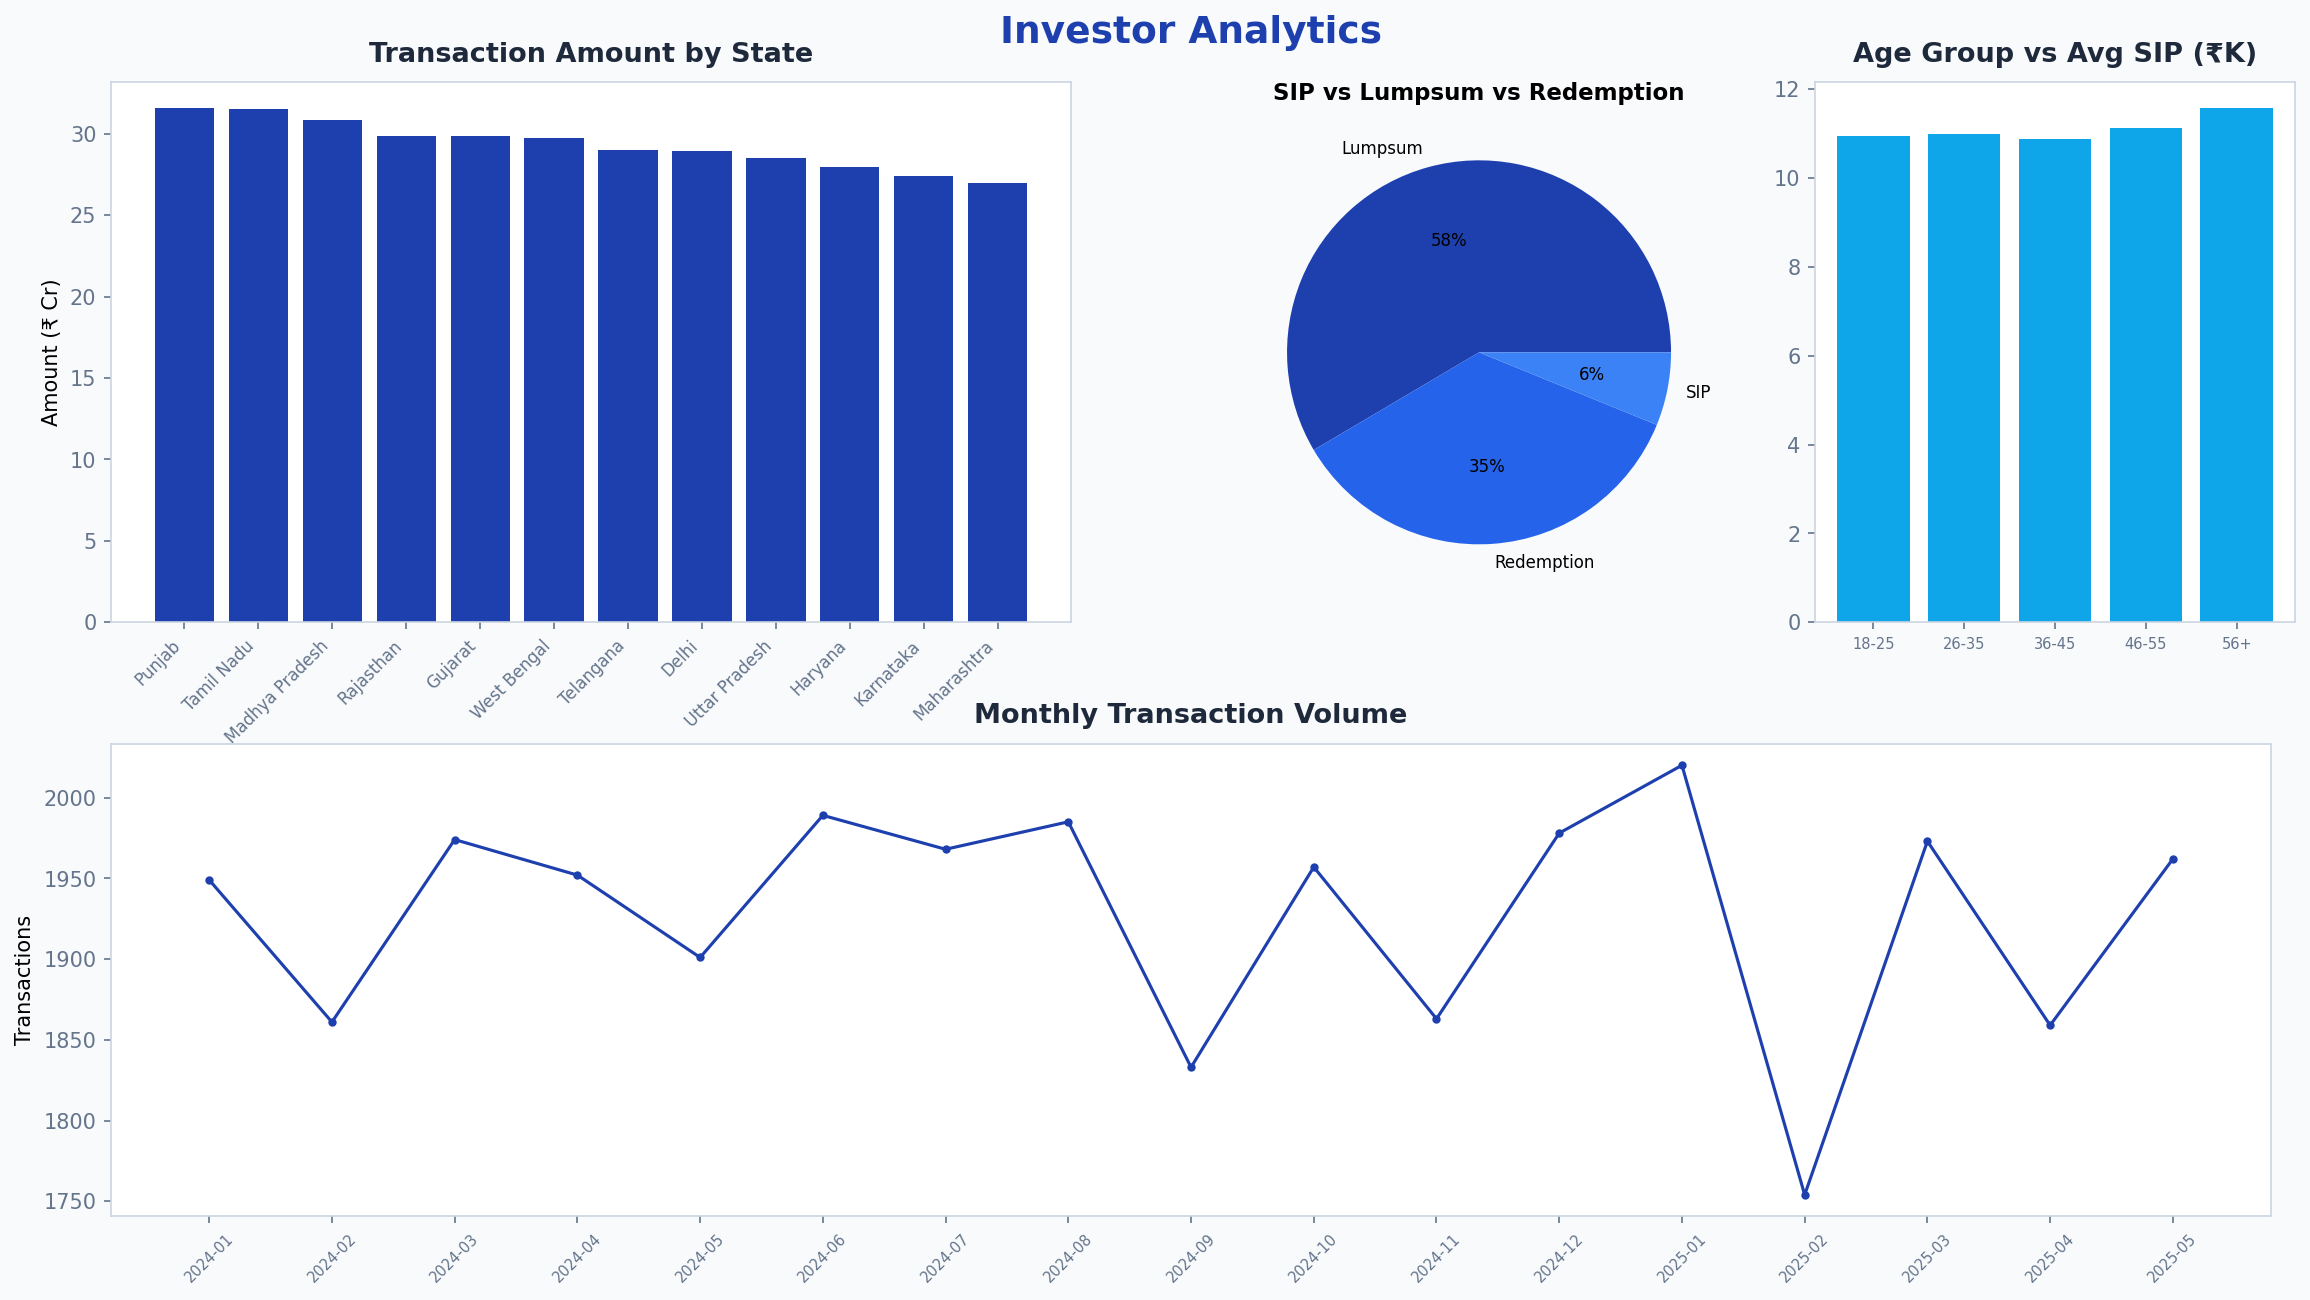

This screenshot's page, from the dashboard's own definition file:
{"tool":"powerbi","page":{"name":"Investor Analytics","canvas":[1280,720],"ordinal":2},"visuals":[{"type":"image","box":[1100,0,160,50]},{"type":"slicer","fields":{"Values":["fact_transactions.state"]},"box":[20,20,180,100]},{"type":"slicer","fields":{"Values":["fact_transactions.age_group"]},"box":[220,20,180,100]},{"type":"slicer","fields":{"Values":["fact_transactions.city_tier"]},"box":[420,20,180,100]},{"type":"clusteredBarChart","fields":{"Category":["fact_transactions.state"],"Y":["fact_transactions.Transaction Amount"]},"box":[20,140,500,350]},{"type":"donutChart","fields":{"Category":["fact_transactions.transaction_type"],"Y":["fact_transactions.Transaction Amount"]},"box":[540,140,350,350]},{"type":"clusteredBarChart","fields":{"Category":["fact_transactions.age_group"],"Y":["fact_transactions.Transaction Amount"]},"box":[910,140,350,350]},{"type":"lineChart","fields":{"Category":["fact_transactions.transaction_date"],"Y":["fact_transactions.Transaction Count"]},"box":[20,510,1240,200]}]}

Visuals, with their boxes in screenshot pixels (x1, y1, x2, y2), scaled from the page's 1280x720 canvas onto the 2310x1300 screenshot:
image: [left=1985, top=0, right=2274, bottom=90]
slicer - fact_transactions.state: [left=36, top=36, right=361, bottom=217]
slicer - fact_transactions.age_group: [left=397, top=36, right=722, bottom=217]
slicer - fact_transactions.city_tier: [left=758, top=36, right=1083, bottom=217]
clusteredBarChart - fact_transactions.state x fact_transactions.Transaction Amount: [left=36, top=253, right=938, bottom=885]
donutChart - fact_transactions.transaction_type x fact_transactions.Transaction Amount: [left=975, top=253, right=1606, bottom=885]
clusteredBarChart - fact_transactions.age_group x fact_transactions.Transaction Amount: [left=1642, top=253, right=2274, bottom=885]
lineChart - fact_transactions.transaction_date x fact_transactions.Transaction Count: [left=36, top=921, right=2274, bottom=1282]
